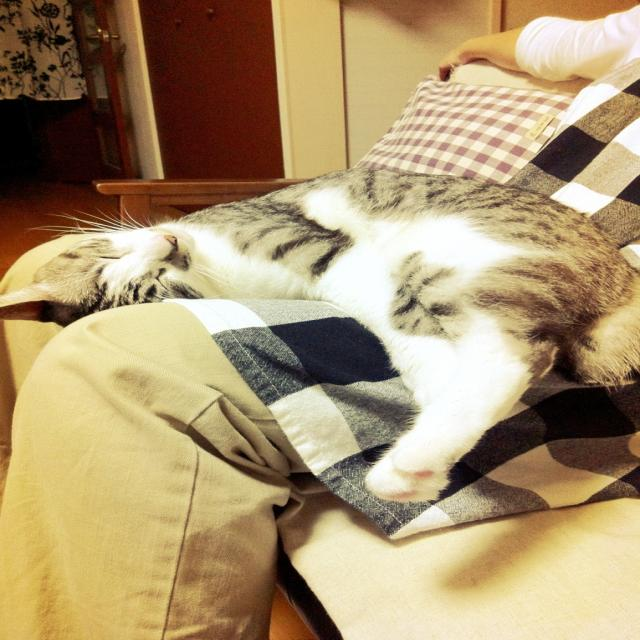Cat: (0, 164, 638, 496)
